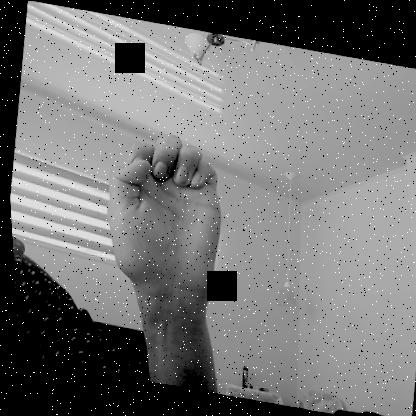E: (92, 123, 234, 302)
